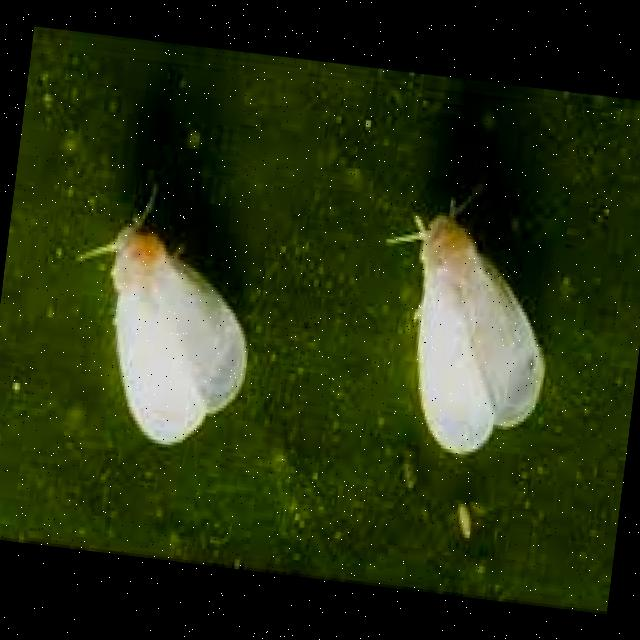whitefly: (45, 157, 281, 466), (351, 162, 568, 479)
